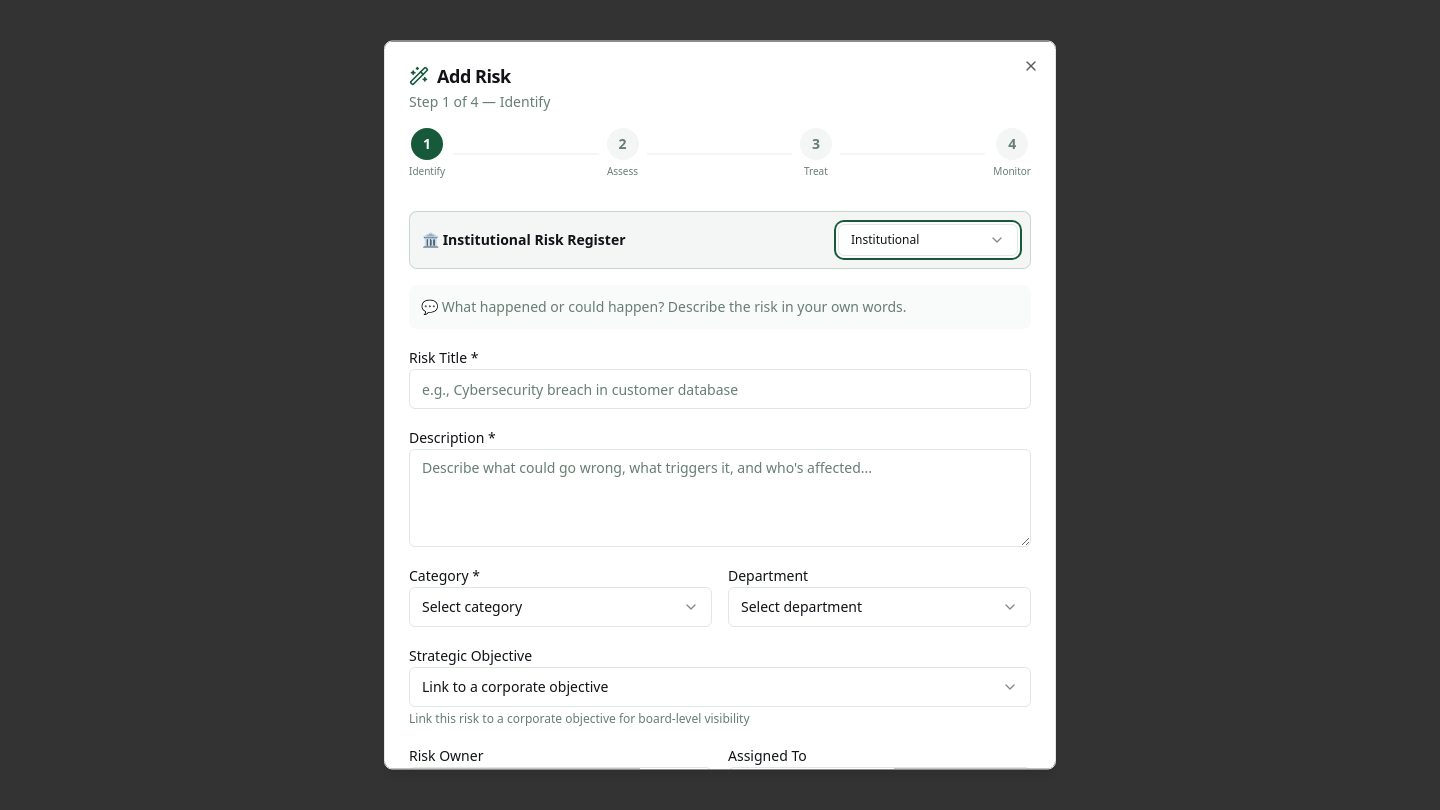
Test: RiskWizardDialog (add-risk wizard) › keeps Next disabled on step 1 until title, description, and category are filled
The image size is (1440, 810).
Check: the text "Step 1 of 4 — Identify" is shown, box [409,92,550,110]
Type "Delayed taxpayer onboarding queue" into the field with placeholder "e.g., Cybersecurity breach in customer database". click: x=720, y=388
box: [409,368,1031,408]
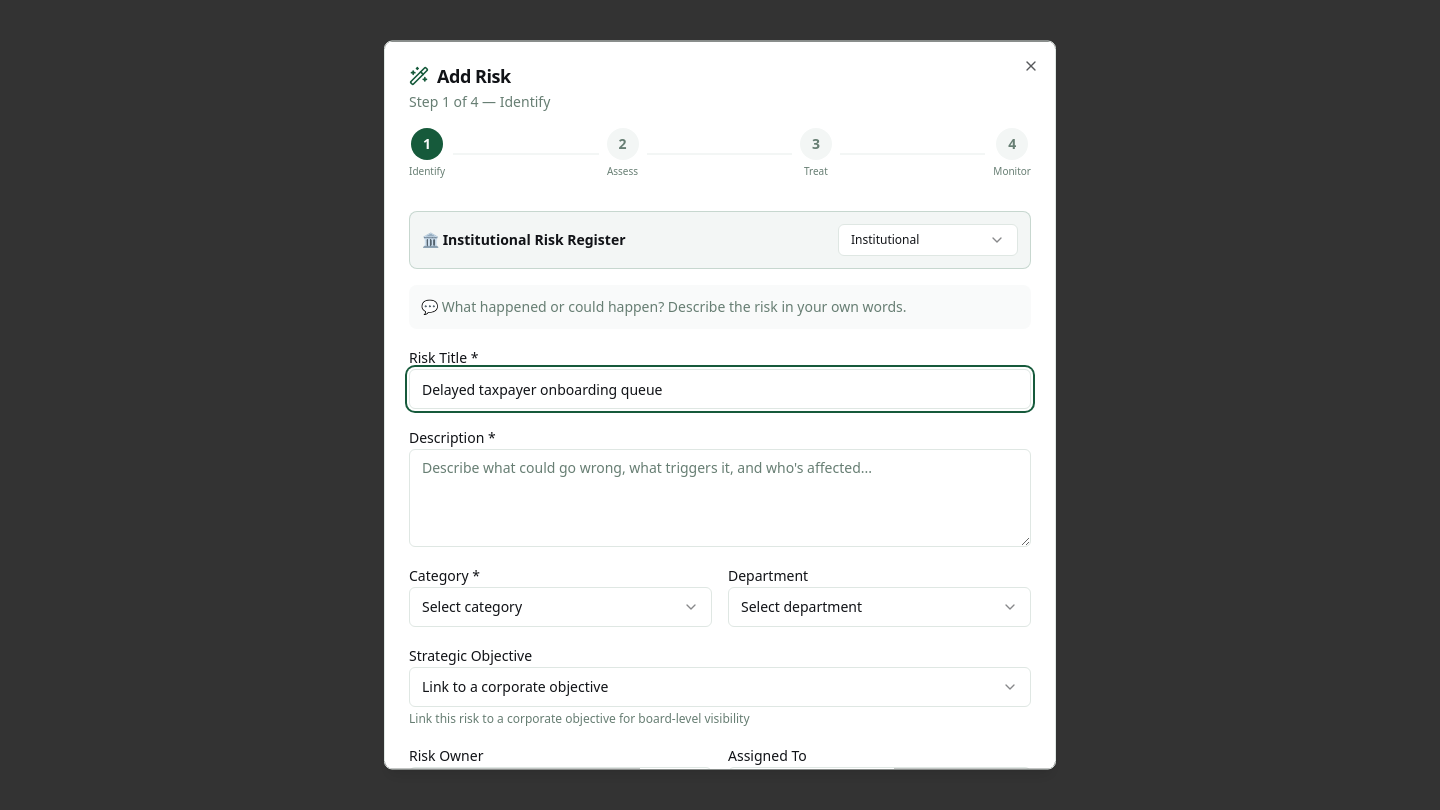
Type "Backlog of pending taxpayer enrolment records across the branch." into the text box with placeholder "Describe what could go wrong". click: x=720, y=498
box: [409,448,1031,546]
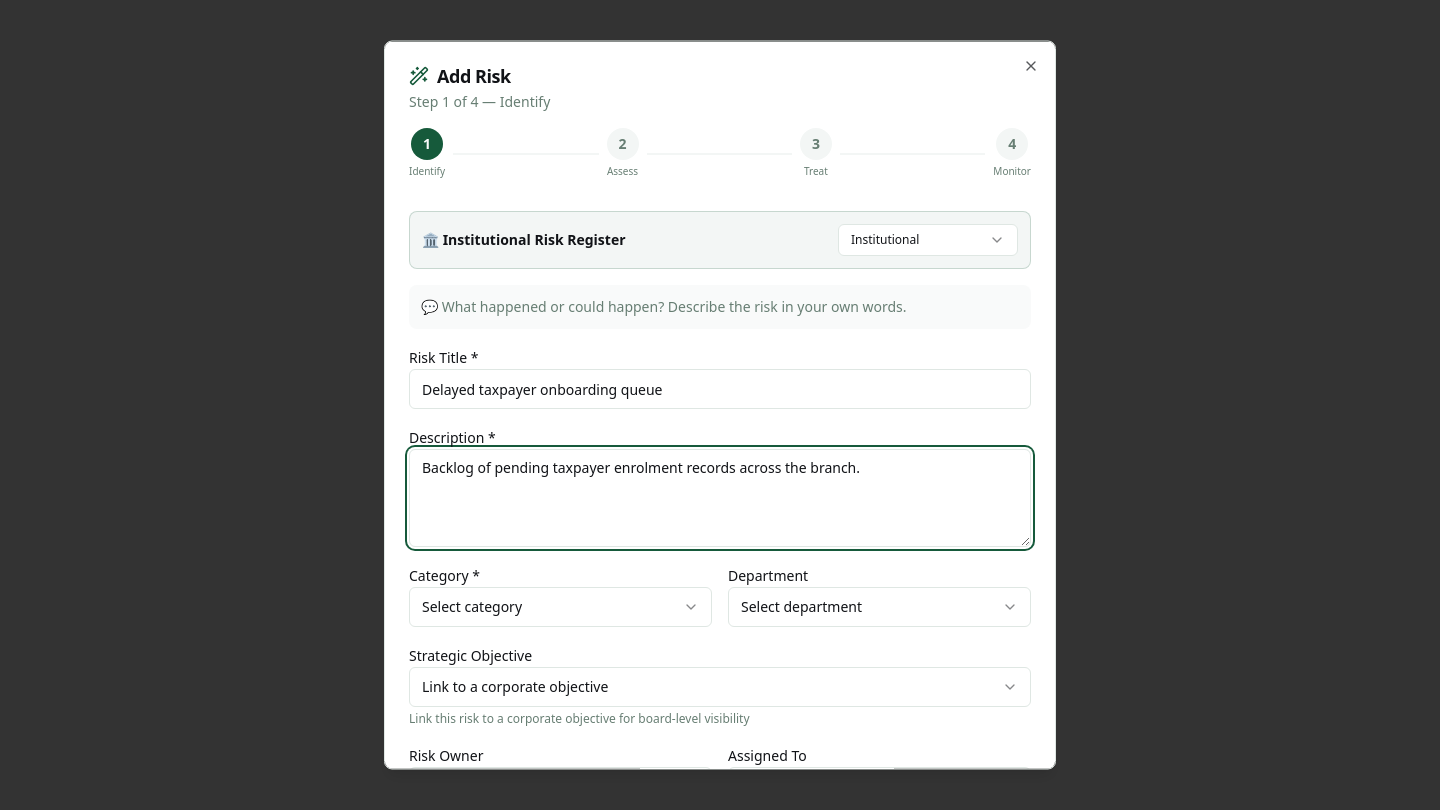
Click the dropdown labelled "Select category". click: x=472, y=606
box: [409,586,712,626]
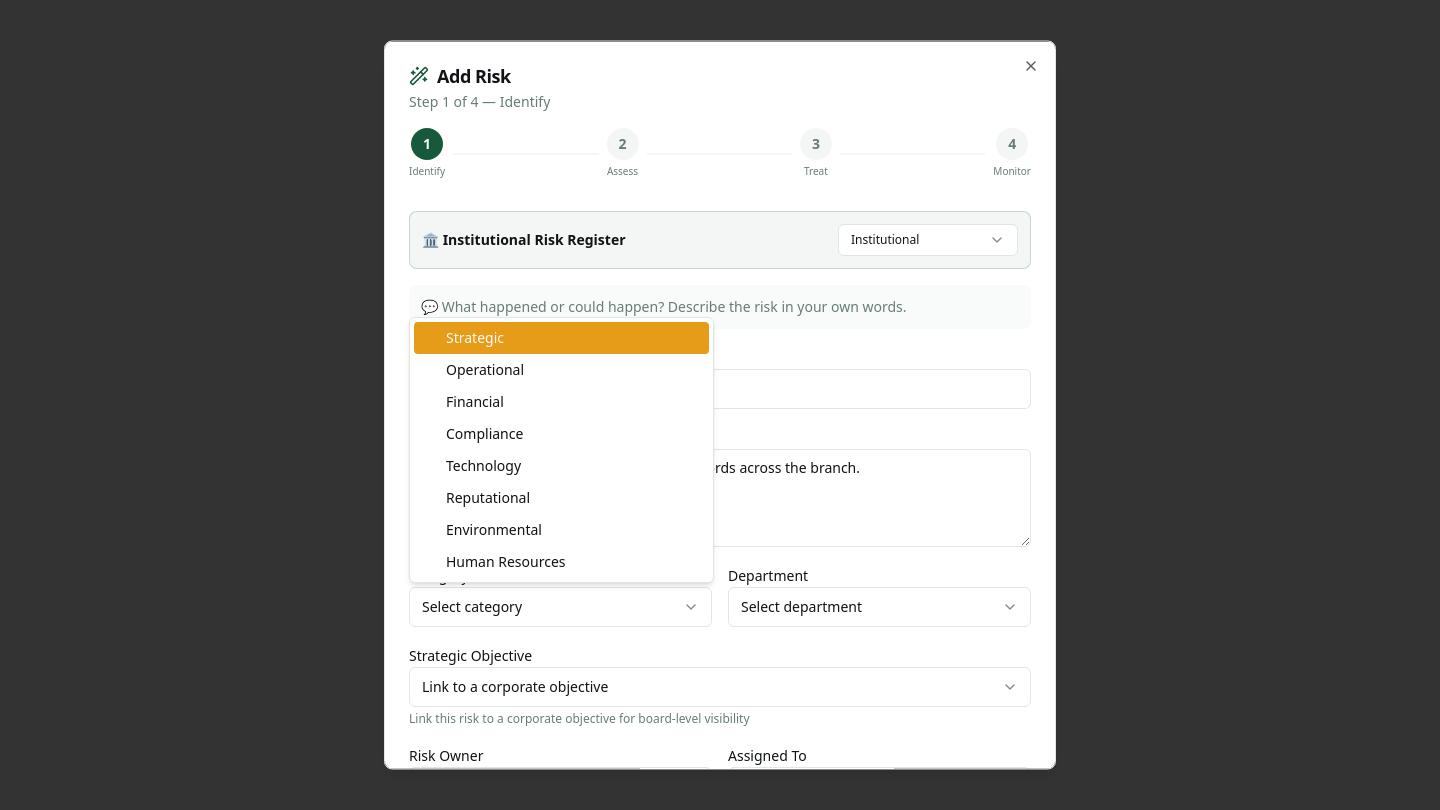
Click the option "Technology". click: x=484, y=466
box: [446,456,521,475]
(page scrolled)
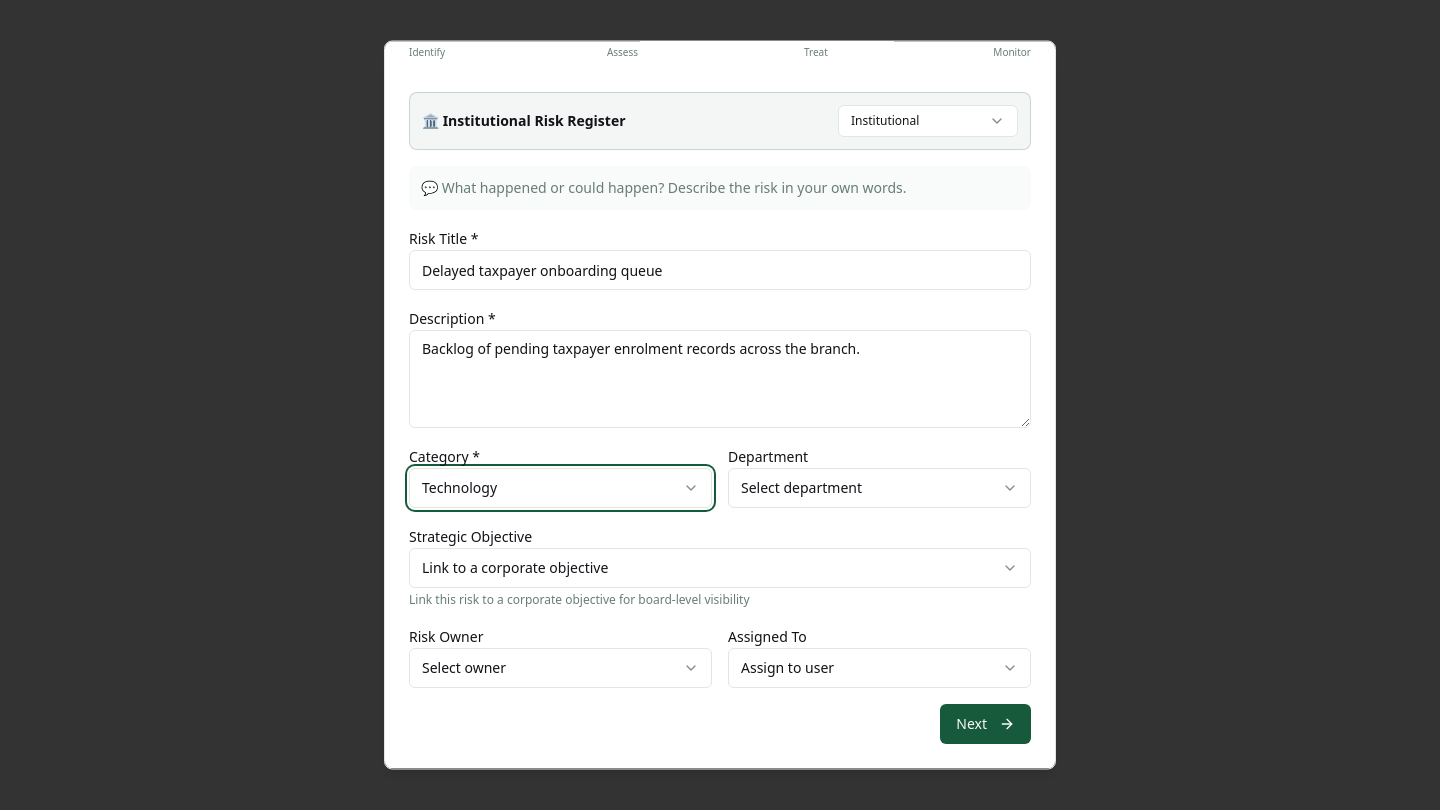
Check: the button "Next" is enabled, box [940,704,1031,744]
